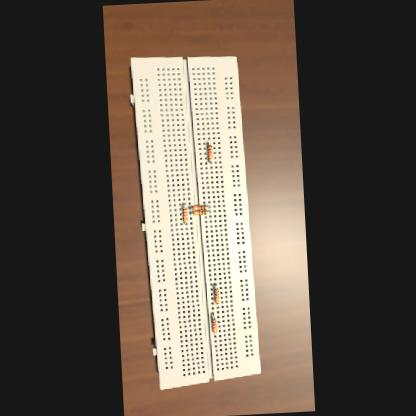breadboard: (127, 52, 260, 390)
resistor: (206, 144, 212, 158), (210, 318, 216, 332), (192, 210, 206, 216), (192, 204, 206, 210), (213, 288, 218, 302), (182, 207, 187, 221)
wire: (214, 282, 216, 288), (212, 312, 213, 318), (209, 159, 210, 163), (206, 211, 210, 212), (189, 212, 191, 214), (208, 142, 209, 144), (184, 221, 185, 223), (184, 204, 184, 207)
